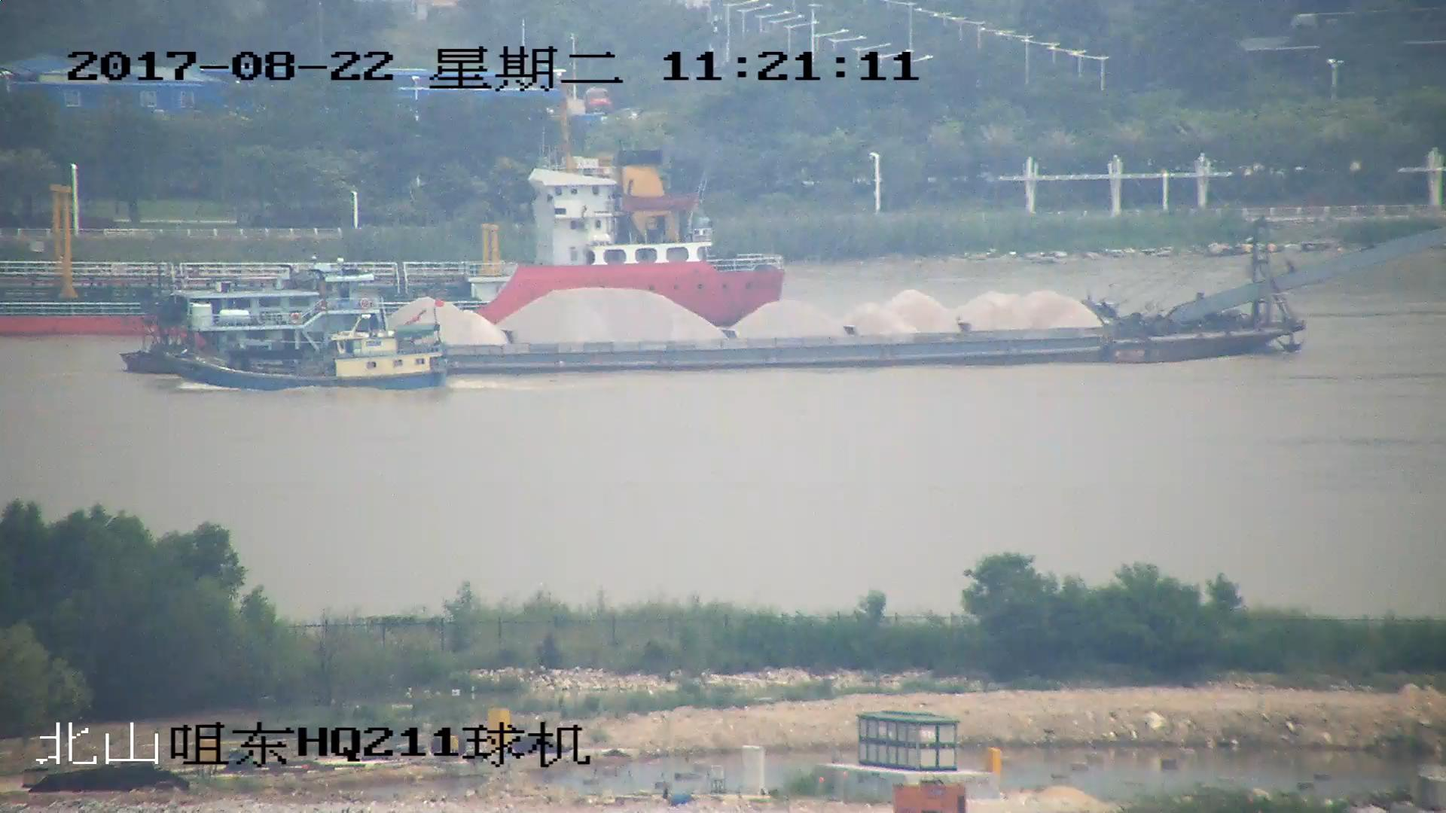fishing boat: (170, 314, 449, 391)
general cargo ship: (0, 92, 789, 333)
ore carrier: (125, 223, 1445, 372)
